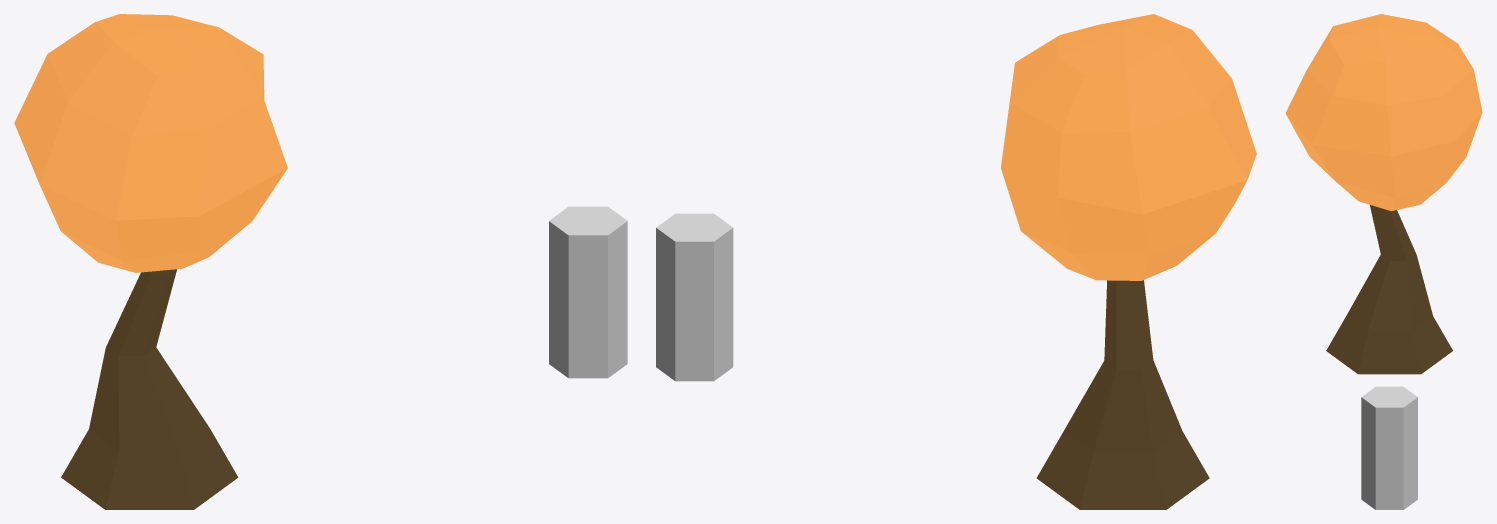
File: yellow_tree.glb
3 views of the same model, side by side, from view 1: azimuth 30°, elevation 25°; view 2: azimuth 150°, elevation 25°; view 3: azimuth 270°, elevation 25° (orthographic). The views are drawn at different scales.
Visible parts, largest first — view 1: leaves, trunk, Cylinder; view 2: leaves, trunk, Cylinder; view 3: leaves, trunk, Cylinder.
Boxes of the visible parts, <box> form: leaves: <box>14,14,287,272</box>; trunk: <box>61,269,238,509</box>; Cylinder: <box>549,206,627,378</box>; leaves: <box>1001,14,1256,280</box>; trunk: <box>1036,280,1209,509</box>; Cylinder: <box>656,213,733,381</box>; leaves: <box>1285,14,1482,211</box>; trunk: <box>1326,205,1452,374</box>; Cylinder: <box>1361,386,1417,509</box>.
Bounding box in the file's own units: 8.59 × 6.35 × 3.49.
